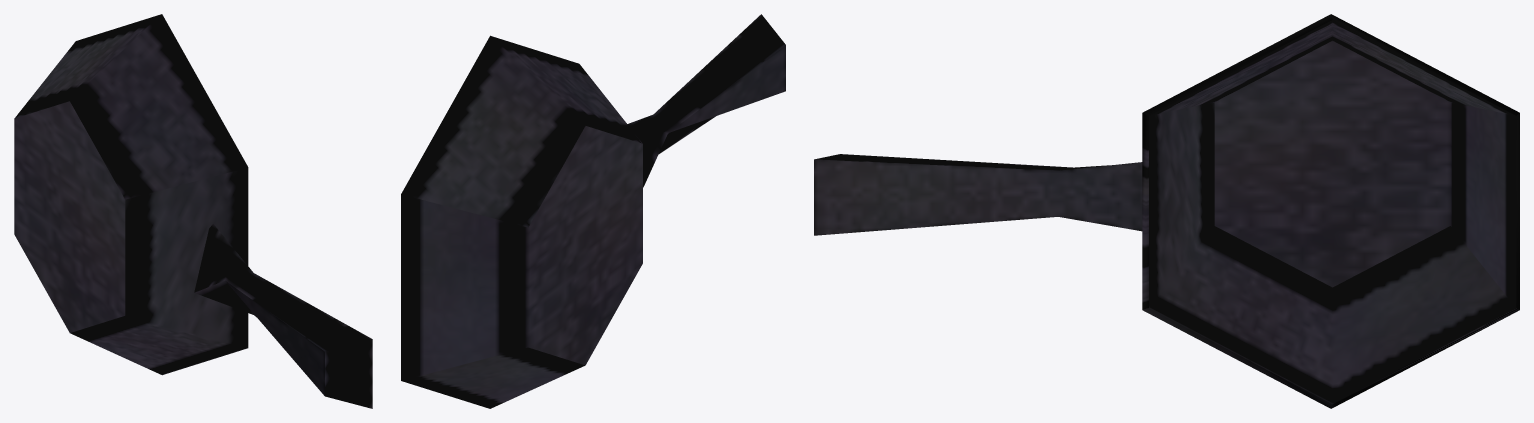
File: Ratskillet1.obj
3 renders of one model, left to right at view 1: azimuth 30°, elevation 25°; view 2: azimuth 150°, elevation 25°; view 3: azimuth 270°, elevation 25°, orthographic. The views are drawn at different scales.
Visible parts, largest first — view 1: Ratskillet1; view 2: Ratskillet1; view 3: Ratskillet1.
Boxes of the visible parts, x1,y1,x2,y2 form: Ratskillet1: (14,14,372,408); Ratskillet1: (401,14,785,408); Ratskillet1: (814,14,1519,408).
Bounding box in the file's own units: 0.00236 × 0.00871 × 0.0141.
1 material, 1 textured.
